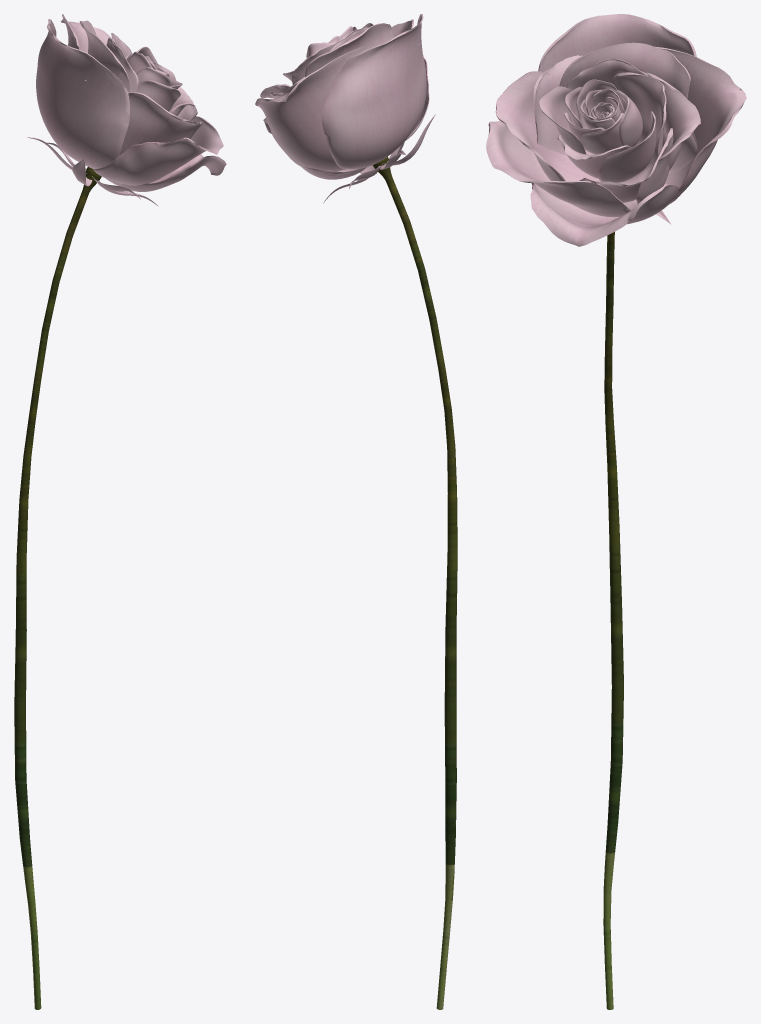
File: animate_white_RJ7TWvp.glb
The picture shows the model from 3 angles, left to right: view 1: azimuth 30°, elevation 25°; view 2: azimuth 150°, elevation 25°; view 3: azimuth 270°, elevation 25°; orthographic projection. The views are drawn at different scales.
Visible parts, largest first — view 1: Subdivision_Surface.037, animatewhite, Subdivision_Surface.038, Subdivision_Surface.031, Subdivision_Surface.076, Subdivision_Surface.034, Subdivision_Surface.027, Subdivision_Surface.036, Subdivision_Surface.026; view 2: Subdivision_Surface.037, animatewhite, Subdivision_Surface.036, Subdivision_Surface.034, Subdivision_Surface.076; view 3: animatewhite, Subdivision_Surface.036, Subdivision_Surface.038, Subdivision_Surface.037, Subdivision_Surface.076, Subdivision_Surface.034, Subdivision_Surface.031, Subdivision_Surface.033, Subdivision_Surface.030, Subdivision_Surface.029, Subdivision_Surface.035, Subdivision_Surface.027 (+6 smaller).
Boxes of the visible parts, left/top/right/bottom form: Subdivision_Surface.037: left=36, top=19, right=129, bottom=169; animatewhite: left=14, top=167, right=101, bottom=1009; Subdivision_Surface.038: left=93, top=116, right=223, bottom=185; Subdivision_Surface.031: left=120, top=92, right=202, bottom=154; Subdivision_Surface.076: left=106, top=154, right=226, bottom=191; Subdivision_Surface.034: left=79, top=20, right=129, bottom=92; Subdivision_Surface.027: left=136, top=80, right=180, bottom=111; Subdivision_Surface.036: left=61, top=14, right=111, bottom=52; Subdivision_Surface.026: left=106, top=37, right=138, bottom=92; Subdivision_Surface.037: left=321, top=14, right=426, bottom=169; animatewhite: left=372, top=157, right=457, bottom=1009; Subdivision_Surface.036: left=255, top=46, right=372, bottom=171; Subdivision_Surface.034: left=305, top=23, right=394, bottom=77; Subdivision_Surface.076: left=263, top=118, right=366, bottom=179; animatewhite: left=603, top=232, right=623, bottom=1009; Subdivision_Surface.036: left=654, top=46, right=746, bottom=204; Subdivision_Surface.038: left=486, top=121, right=635, bottom=217; Subdivision_Surface.037: left=538, top=14, right=696, bottom=71; Subdivision_Surface.076: left=530, top=183, right=679, bottom=246; Subdivision_Surface.034: left=559, top=42, right=697, bottom=175; Subdivision_Surface.031: left=495, top=71, right=600, bottom=181; Subdivision_Surface.033: left=633, top=72, right=700, bottom=205; Subdivision_Surface.030: left=611, top=72, right=666, bottom=169; Subdivision_Surface.029: left=598, top=111, right=656, bottom=182; Subdivision_Surface.035: left=533, top=55, right=582, bottom=155; Subdivision_Surface.027: left=539, top=86, right=594, bottom=154.
Bounding box in the file's own units: 27.45 × 140 × 32.83.
Materials: 2 (2 with a texture image).
